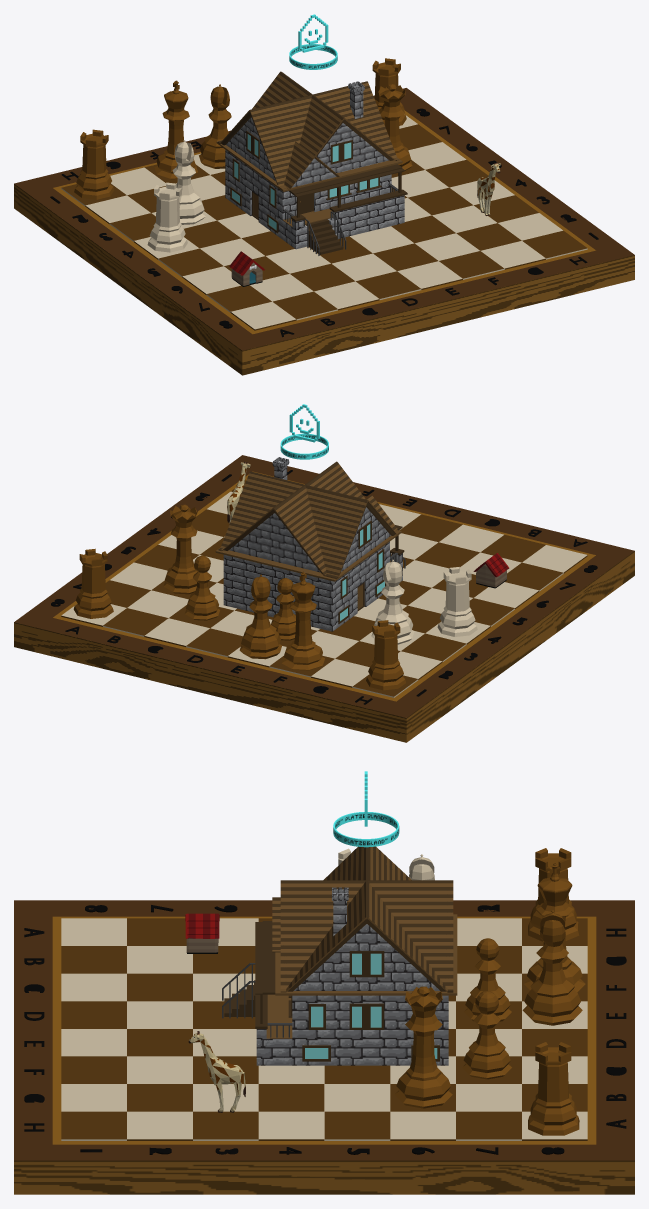
3 renders of one model, top to bottom at view 1: azimuth 30°, elevation 25°; view 2: azimuth 150°, elevation 25°; view 3: azimuth 270°, elevation 25°, orthographic. The views are drawn at different scales.
Parts seen in each view (by area): view 1: Cube.002, Cube.586, TYPE_PREMIUM, OBJRANDOM_DOGHOUSE, ANIMAL_JIRAFA; view 2: Cube.002, Cube.586, TYPE_PREMIUM, OBJRANDOM_DOGHOUSE, ANIMAL_JIRAFA; view 3: Cube.002, Cube.586, ANIMAL_JIRAFA, OBJRANDOM_DOGHOUSE, TYPE_PREMIUM.
Boxes of the visible parts, x1,y1,x2,y2 form: Cube.002: [14, 58, 634, 375]; Cube.586: [216, 71, 407, 255]; TYPE_PREMIUM: [289, 14, 337, 69]; OBJRANDOM_DOGHOUSE: [229, 251, 264, 286]; ANIMAL_JIRAFA: [477, 162, 500, 215]; Cube.002: [14, 455, 634, 742]; Cube.586: [215, 457, 405, 631]; TYPE_PREMIUM: [280, 404, 328, 459]; OBJRANDOM_DOGHOUSE: [473, 553, 509, 588]; ANIMAL_JIRAFA: [227, 461, 250, 523]; Cube.002: [14, 848, 634, 1194]; Cube.586: [222, 846, 457, 1065]; ANIMAL_JIRAFA: [188, 1031, 245, 1112]; OBJRANDOM_DOGHOUSE: [185, 913, 219, 953]; TYPE_PREMIUM: [333, 771, 399, 847].
Size of the model in its own units: 3981 by 2330 by 4012.
Materials: 32 (4 with a texture image).
